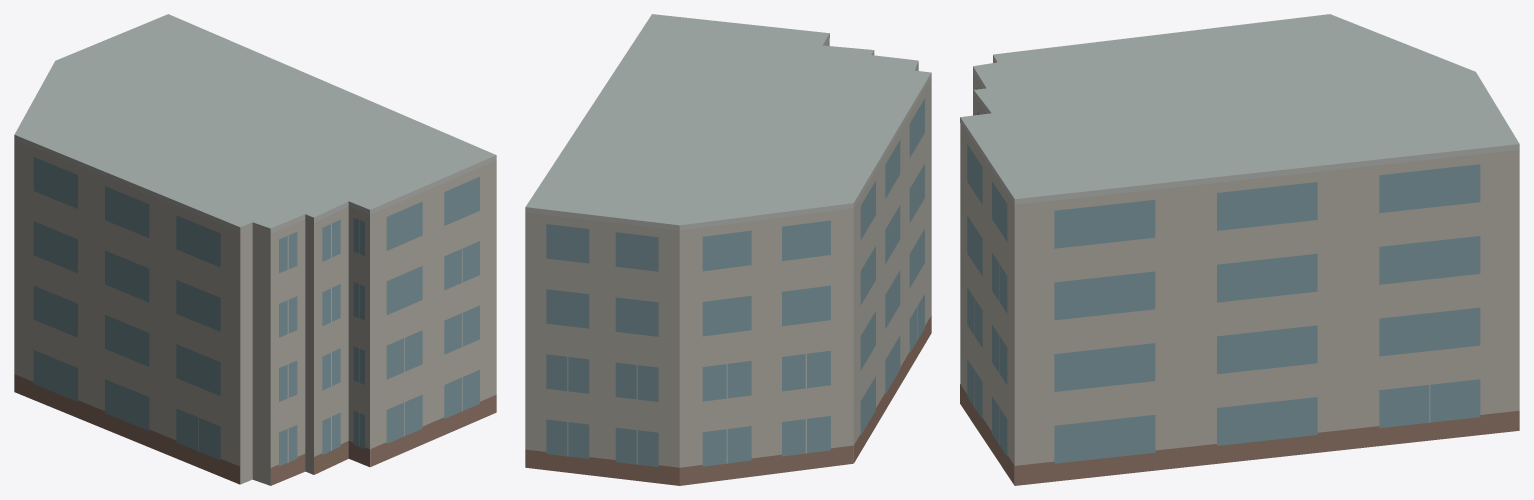
File: survey-upis-32534868.glb
3 renders of one model, left to right at view 1: azimuth 30°, elevation 25°; view 2: azimuth 150°, elevation 25°; view 3: azimuth 270°, elevation 25°, orthographic. The views are drawn at different scales.
Parts seen in each view (by area): view 1: survey-upis-32534868.tmp; view 2: survey-upis-32534868.tmp; view 3: survey-upis-32534868.tmp.
Part boxes in pixels (<box>): survey-upis-32534868.tmp: <box>14,14,496,485</box>; survey-upis-32534868.tmp: <box>525,14,931,485</box>; survey-upis-32534868.tmp: <box>960,14,1519,485</box>.
Bounding box in the file's own units: 17.05 × 12.3 × 21.77.
